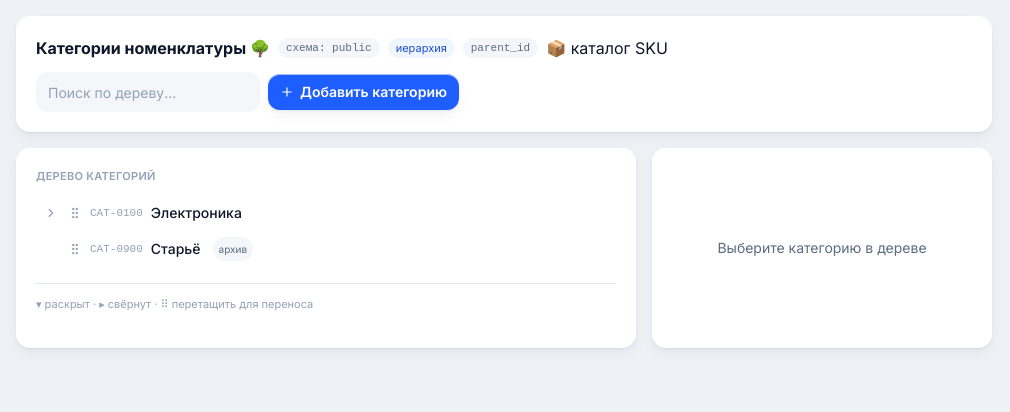
Test: SpravCategories › добавление категории зовёт createNomenclatureGroup с введёнными полями и показывает тост
Click the button "Добавить категорию". click: (364, 92)
box: [268, 74, 459, 110]
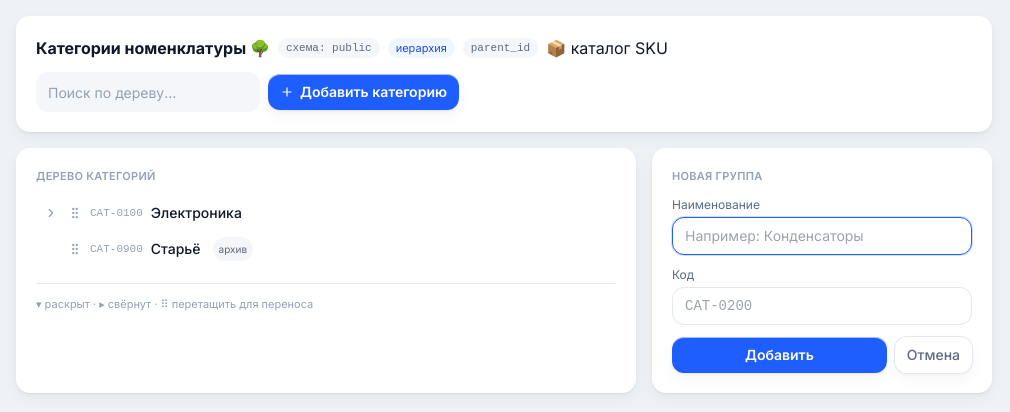
Type "Резисторы" into the field with placeholder "Например: Конденсаторы". click: (822, 236)
box: [672, 216, 972, 254]
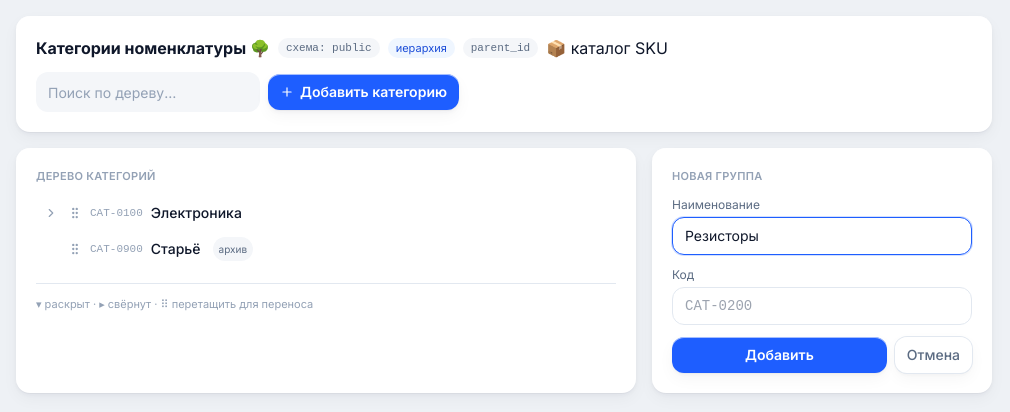
Type "cat-0500" into the field with placeholder "CAT-0200". click: (822, 306)
box: [672, 286, 972, 324]
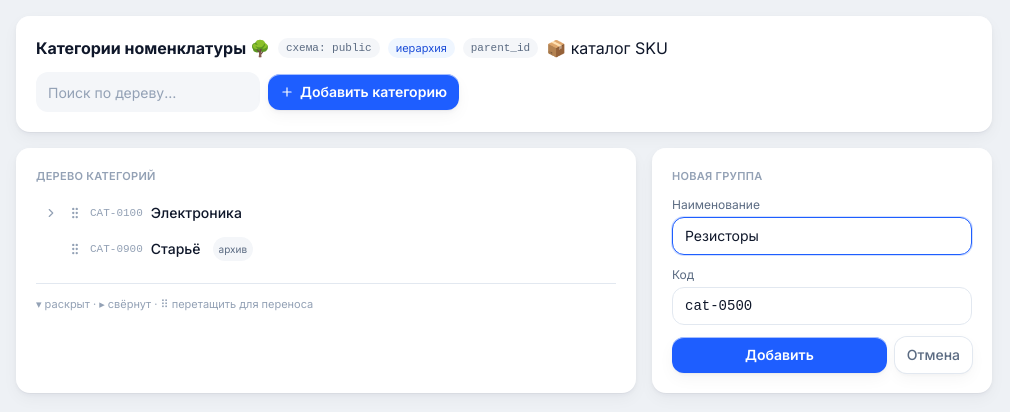
Click the button "Добавить". click: (779, 354)
box: [672, 336, 887, 372]
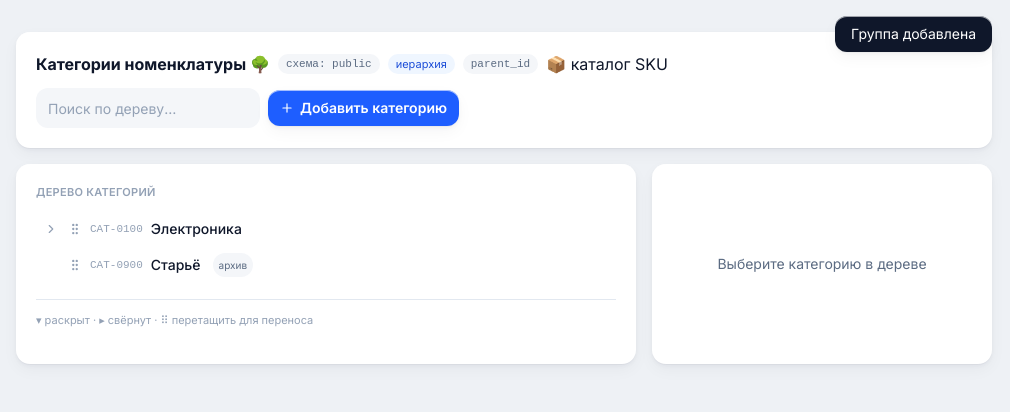
Expected: the text "Группа добавлена" is shown, [835, 16, 992, 52]
